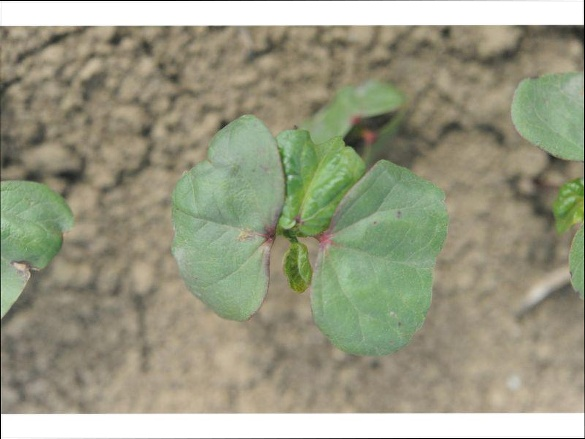cotton: (166, 108, 450, 361)
